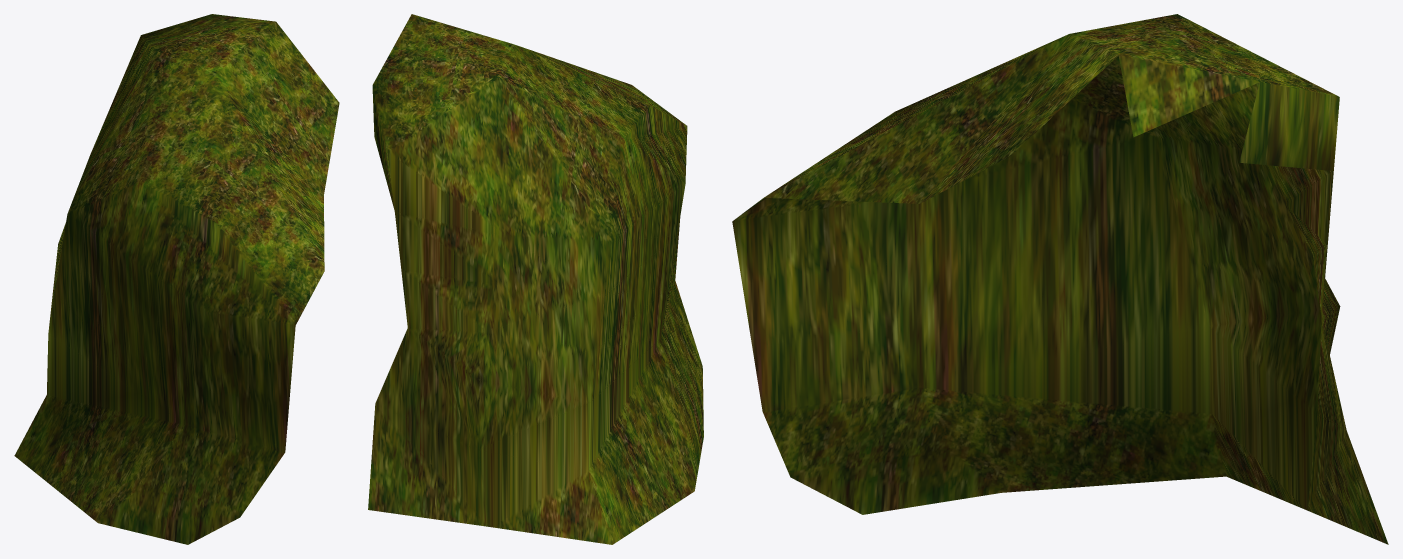
The model's file is TROLLHOLE02_RM_PSURF193.fbx.
3 views of the same model, side by side, from view 1: azimuth 30°, elevation 25°; view 2: azimuth 150°, elevation 25°; view 3: azimuth 270°, elevation 25° (orthographic). The views are drawn at different scales.
Parts seen in each view (by area): view 1: TROLLHOLE02_RM_PSURF193; view 2: TROLLHOLE02_RM_PSURF193; view 3: TROLLHOLE02_RM_PSURF193.
Boxes of the visible parts, bbox=[...] form: TROLLHOLE02_RM_PSURF193: bbox=[14, 14, 339, 544]; TROLLHOLE02_RM_PSURF193: bbox=[368, 14, 703, 544]; TROLLHOLE02_RM_PSURF193: bbox=[732, 14, 1388, 544].
Bounding box in the file's own units: 32978 × 52931 × 53505.
Materials: 1 (1 with a texture image).
